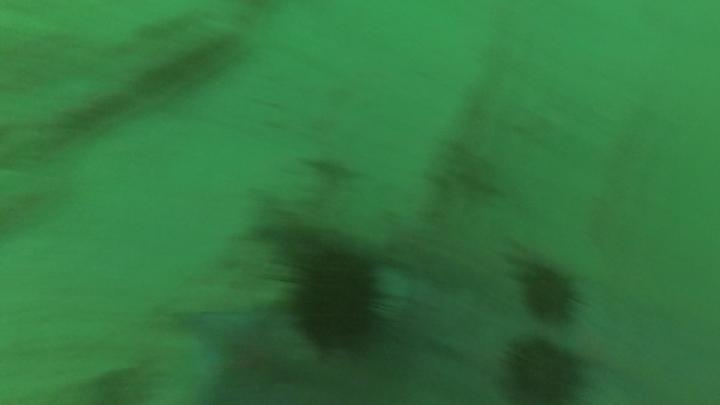echinus: (263, 232, 406, 371), (501, 245, 593, 333), (488, 331, 594, 405)
